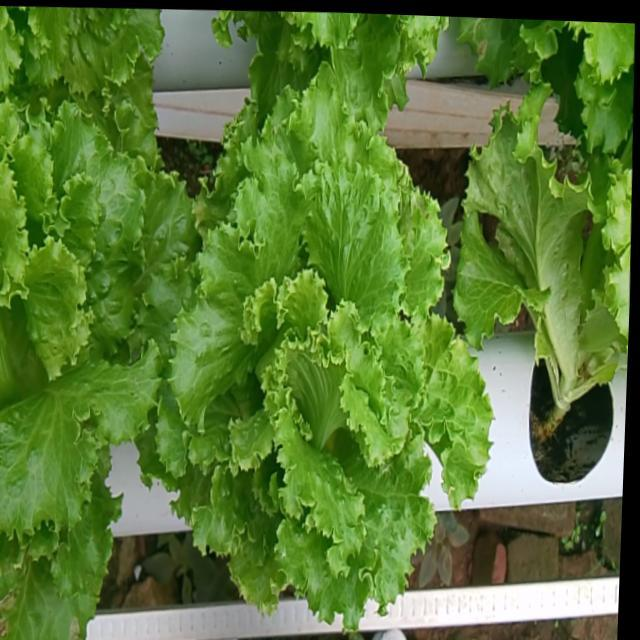Mature: (151, 92, 487, 633), (0, 108, 189, 550)
